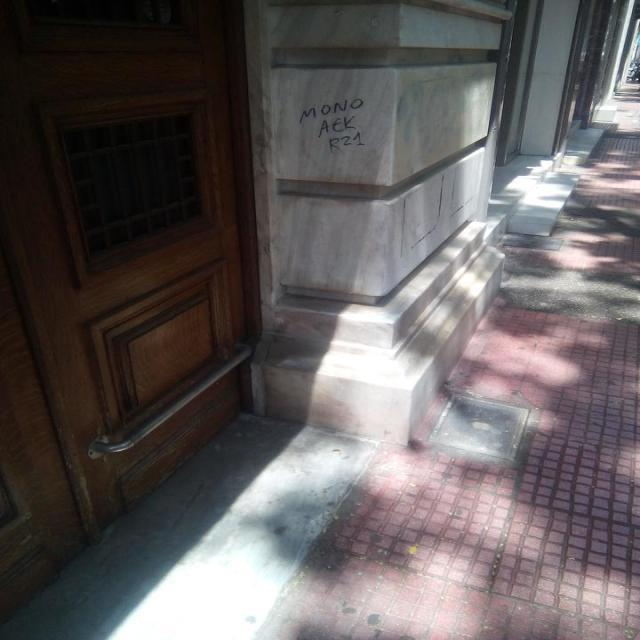nonspitting: (300, 99, 364, 152)
